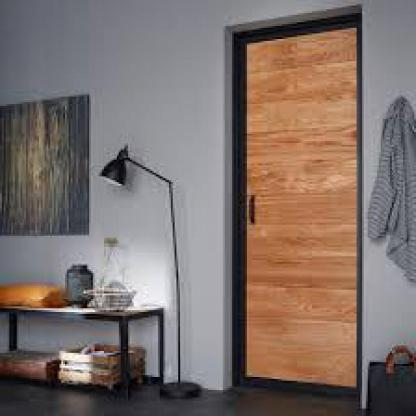door: (227, 4, 364, 414)
